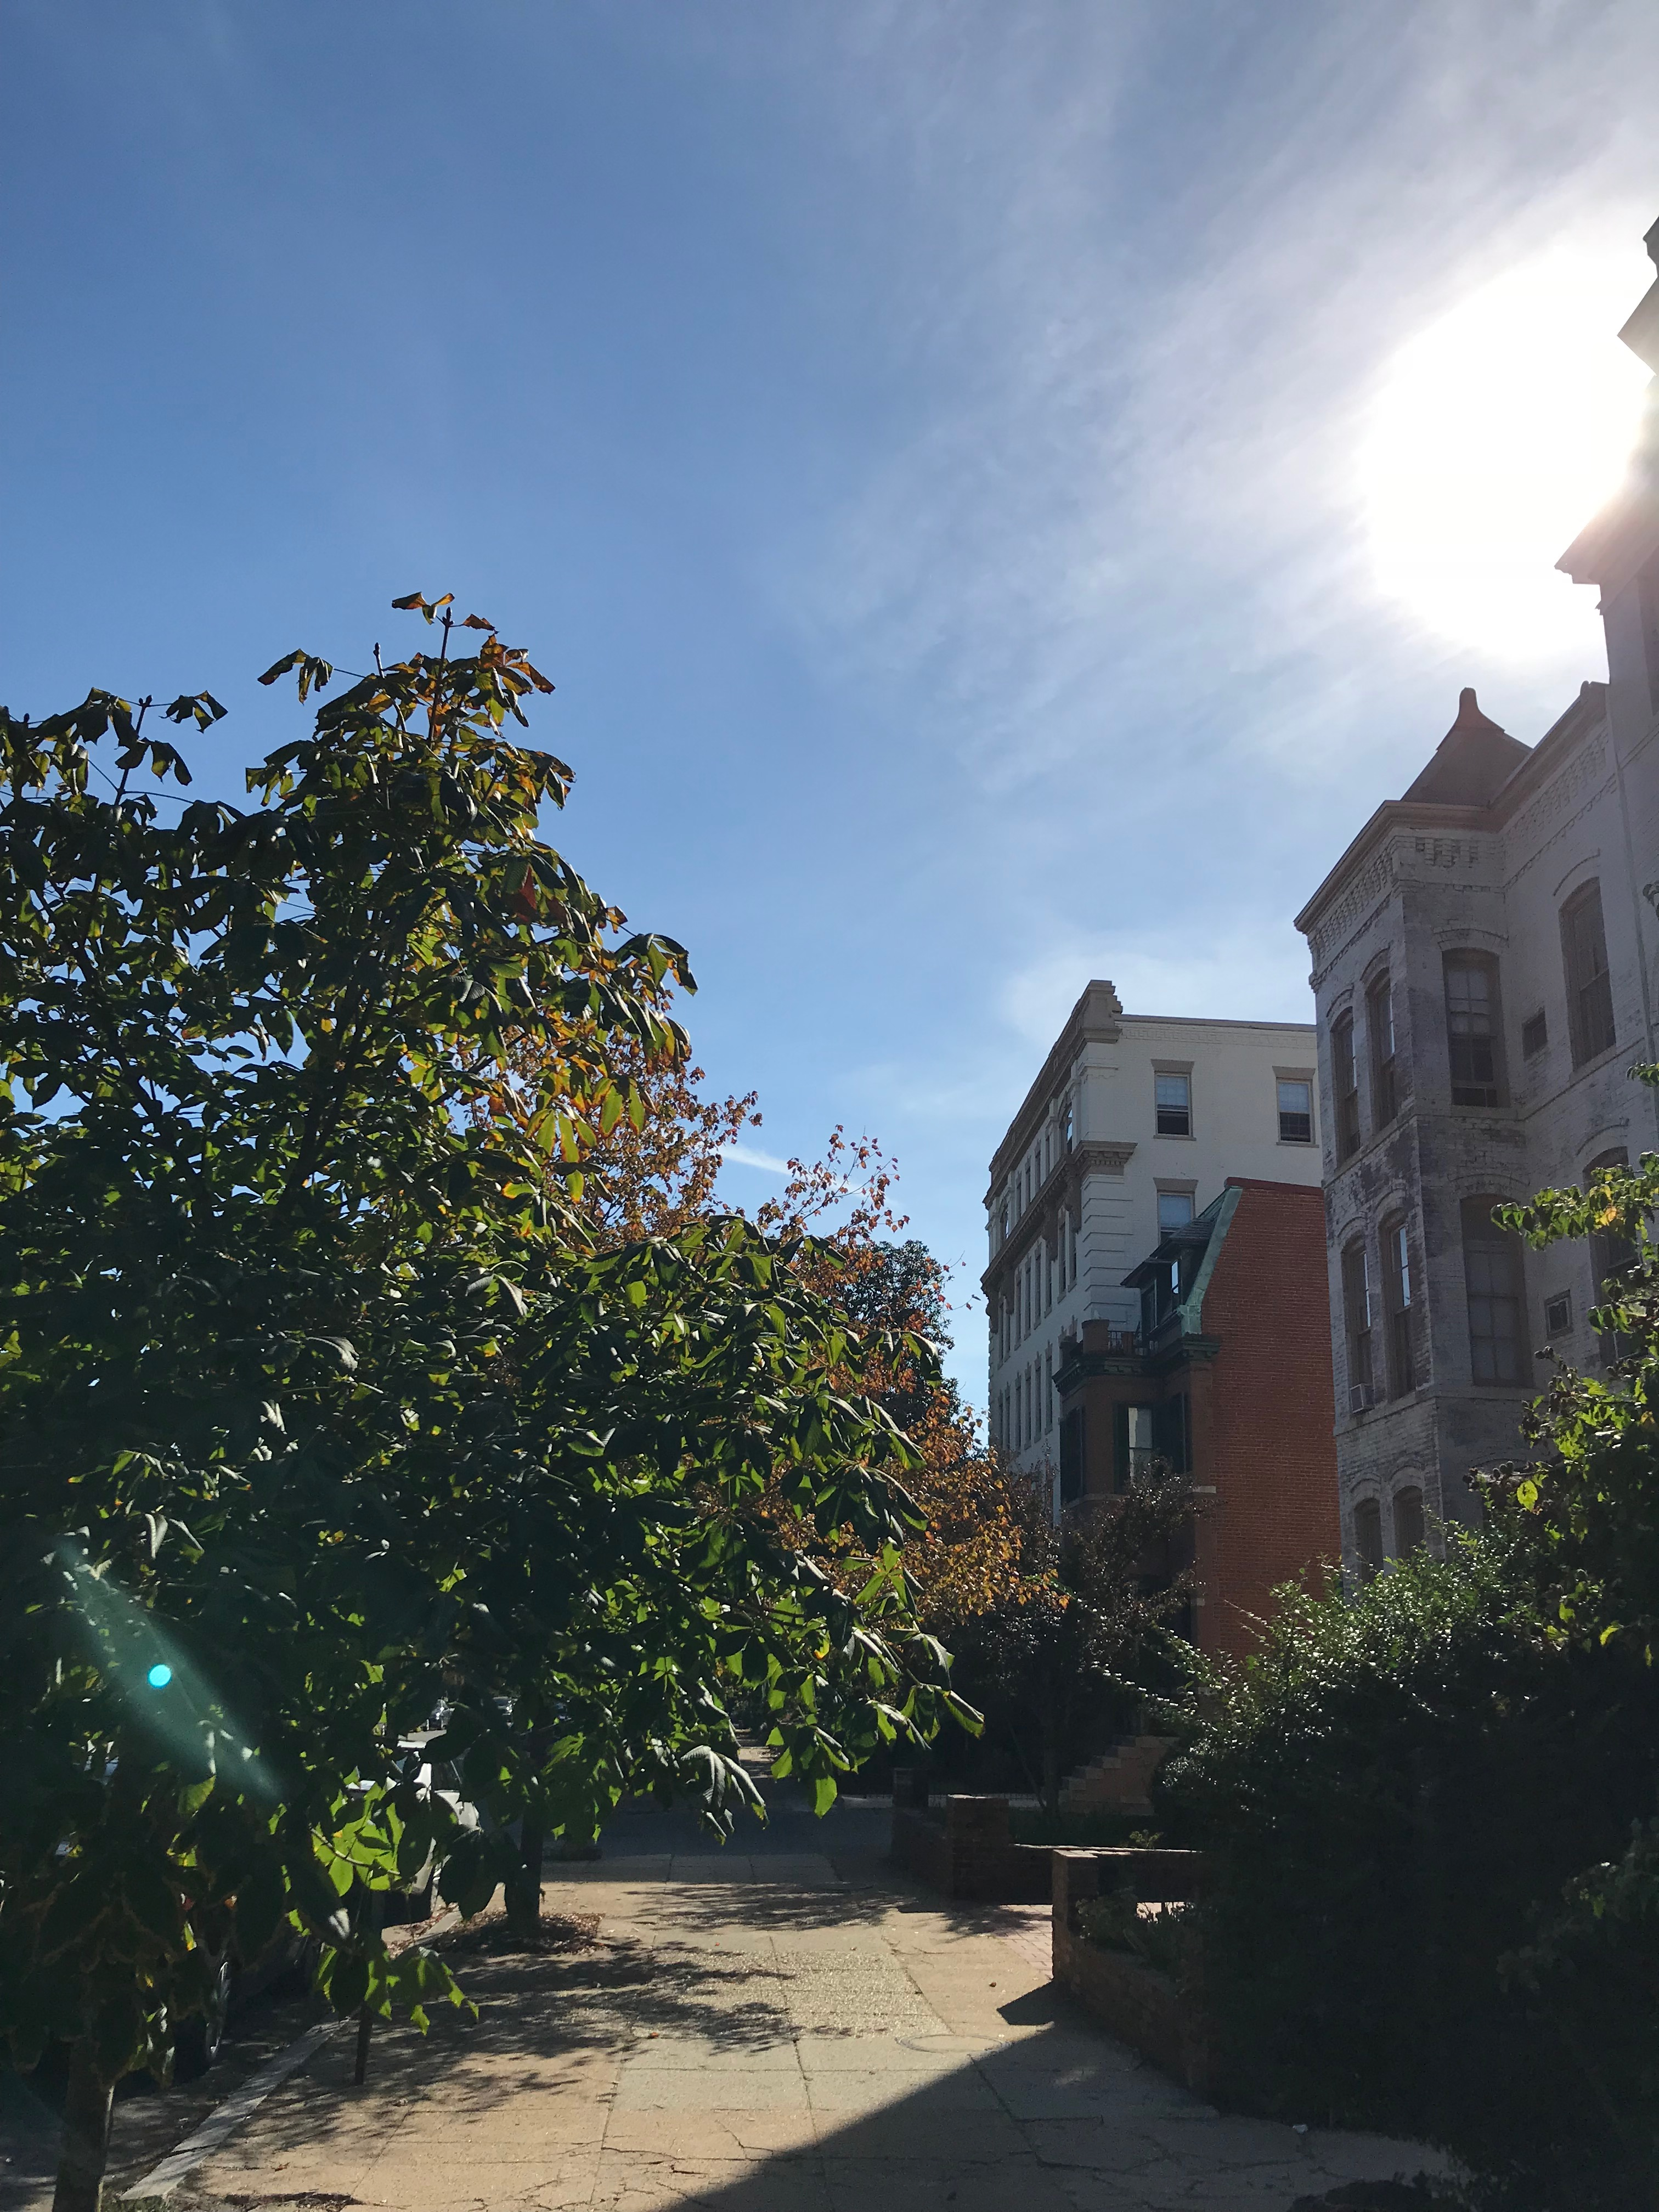flare: (146, 1662, 174, 1689)
